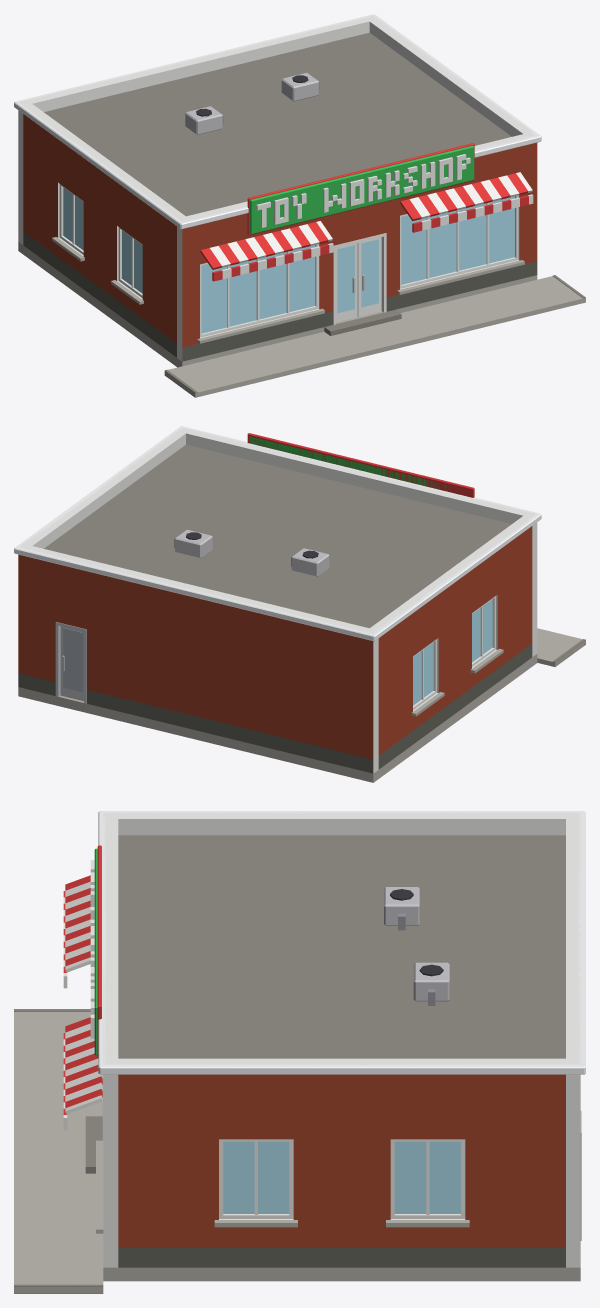
Rendered from SantasWorkshop.fbx.
The picture shows the model from 3 angles, top to bottom: view 1: azimuth 30°, elevation 25°; view 2: azimuth 150°, elevation 25°; view 3: azimuth 270°, elevation 25°; orthographic projection. The views are drawn at different scales.
Parts seen in each view (by area): view 1: SantasWorkshop, SantasWorkshop_Roof, SantasWorkshop_Glass, SantasWorkshop_Sign, SantasWorkshop_DoorR, SantasWorkshop_DoorL; view 2: SantasWorkshop, SantasWorkshop_Roof, SantasWorkshop_Sign, SantasWorkshop_Glass, SantasWorkshop_BackDoor; view 3: SantasWorkshop, SantasWorkshop_Roof, SantasWorkshop_Glass, SantasWorkshop_Sign.
Part boxes in pixels (x1=…): SantasWorkshop: x1=14, y1=14, x2=585, y2=397; SantasWorkshop_Roof: x1=44, y1=32, x2=511, y2=216; SantasWorkshop_Glass: x1=63, y1=187, x2=514, y2=333; SantasWorkshop_Sign: x1=247, y1=143, x2=474, y2=235; SantasWorkshop_DoorR: x1=357, y1=237, x2=381, y2=316; SantasWorkshop_DoorL: x1=336, y1=243, x2=357, y2=322; SantasWorkshop: x1=14, y1=426, x2=585, y2=782; SantasWorkshop_Roof: x1=44, y1=444, x2=511, y2=628; SantasWorkshop_Sign: x1=247, y1=433, x2=474, y2=497; SantasWorkshop_Glass: x1=413, y1=599, x2=492, y2=705; SantasWorkshop_BackDoor: x1=60, y1=626, x2=83, y2=701; SantasWorkshop: x1=14, y1=811, x2=585, y2=1293; SantasWorkshop_Roof: x1=118, y1=835, x2=565, y2=1058; SantasWorkshop_Glass: x1=223, y1=1141, x2=460, y2=1213; SantasWorkshop_Sign: x1=90, y1=845, x2=101, y2=1058.
Size of the model in its own units: 44 by 17 by 38.35.
1 material, 1 textured.
